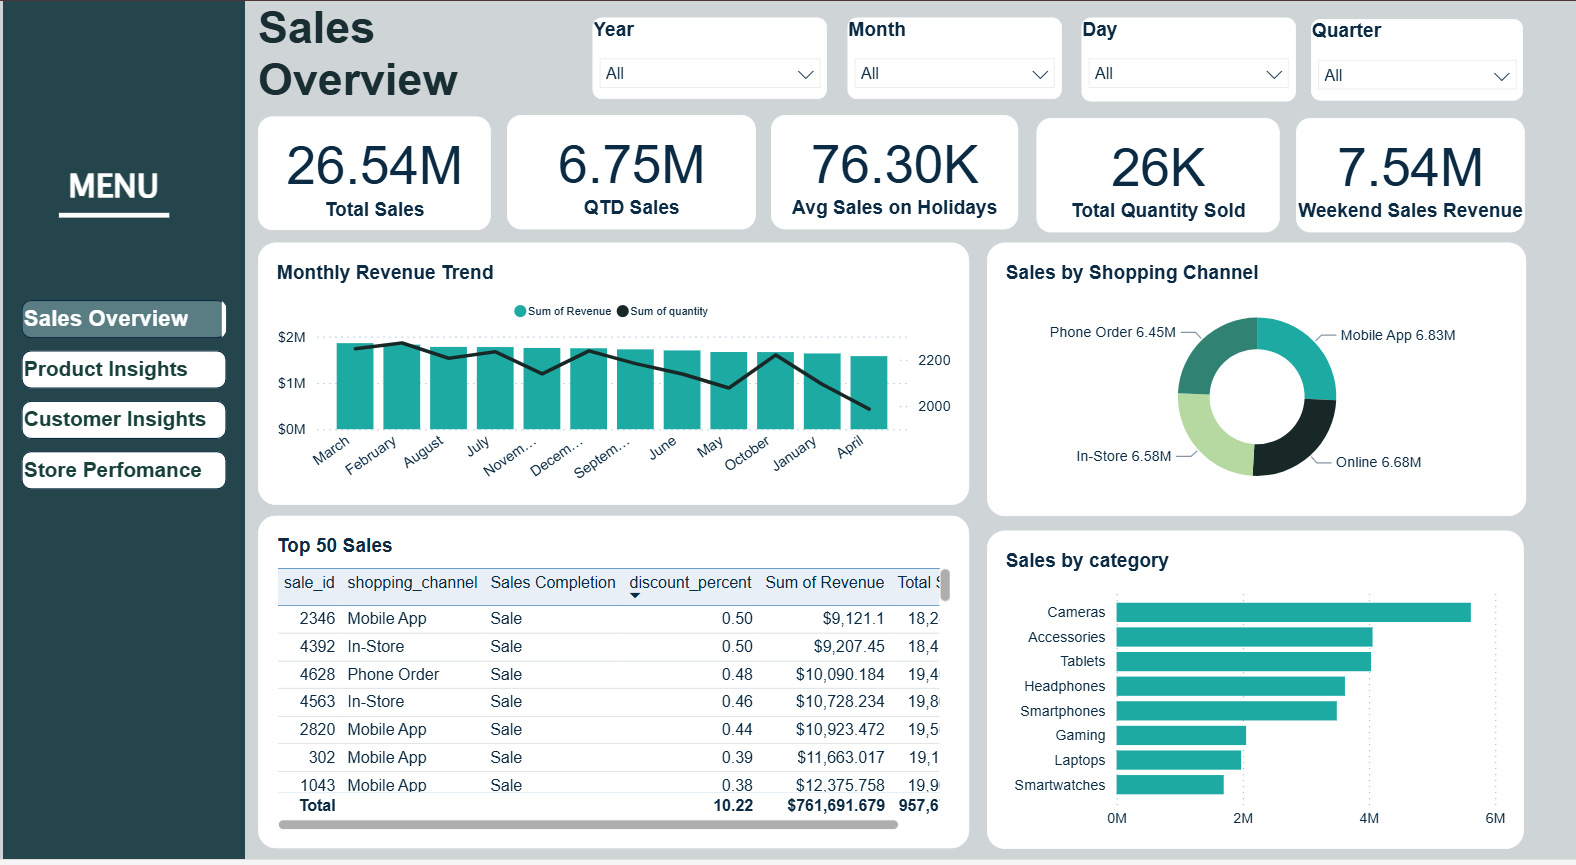

The page's visual inventory and layout, read from the dashboard file:
{"tool":"powerbi","page":{"name":"Sales Overview","canvas":[1280,720],"ordinal":0},"visuals":[{"type":"textbox","box":[0,0,201.3,720.5],"z":0,"group":"g1"},{"type":"lineClusteredColumnComboChart","title":"Monthly Revenue Trend","fields":{"Category":["Date.month"],"Y":["Sum(Sales.Revenue)"],"Y2":["Sum(Sales.quantity)"]},"box":[212.8,201.3,592.5,218.6],"z":0},{"type":"group","id":"g1","title":"Group 1","box":[0,0,201.3,720.5],"z":9,"group":"g2"},{"type":"shape","box":[31.6,139.8,122.2,76.4],"z":17,"group":"g2"},{"type":"donutChart","title":"Sales by Shopping Channel","fields":{"Category":["Sales.shopping_channel"],"Y":["Customer.Total Sales"]},"box":[820.1,200.8,449.2,228],"z":1000},{"type":"barChart","title":"Sales by category","fields":{"Category":["Product.category"],"Y":["Customer.Total Sales"]},"box":[820.1,440.7,447.5,265.4],"z":2000},{"type":"card","fields":{"Values":["Customer.Avg Sales on Holidays"]},"box":[639.7,95.3,205.9,95.3],"z":3000},{"type":"card","fields":{"Values":["Customer.QTD Sales"]},"box":[420.2,95.3,207.6,95.3],"z":4000},{"type":"card","fields":{"Values":["Customer.Total Sales"]},"box":[212.8,96.4,194.1,94.9],"z":5000},{"type":"card","fields":{"Values":["Customer.Weekend Sales Revenue"]},"box":[1077,97,190.6,95.3],"z":6000},{"type":"slicer","title":"Year","fields":{"Values":["Date.year"]},"box":[491.7,13.6,195.7,68.1],"z":7000},{"type":"slicer","title":"Month","fields":{"Values":["Date.month"]},"box":[704.4,13.6,178.6,68.1],"z":8000},{"type":"slicer","title":"Quarter","fields":{"Values":["Date.quarter"]},"box":[1090.6,15.3,176.9,68.1],"z":9000},{"type":"slicer","title":"Day","fields":{"Values":["Date.day_of_week"]},"box":[898.3,13.6,178.6,69.8],"z":10000},{"type":"card","fields":{"Values":["Customer.Total Quantity Sold"]},"box":[860.9,97,202.5,95.3],"z":11000},{"type":"pageNavigator","box":[0,233.8,201.3,189.2],"z":11000,"group":"g1"},{"type":"textbox","box":[18.7,133.9,146.7,55.3],"z":12000,"group":"g1"},{"type":"tableEx","title":"Top 50 Sales","fields":{"Values":["Sales.sale_id","Sales.shopping_channel","Sales.Sales Completion","Sum(Sales.discount_percent)","Sum(Sales.Revenue)","Customer.Total Sales"]},"box":[212.8,428.6,592.5,277.6],"z":12000},{"type":"textbox","box":[212.8,0,254.5,94.9],"z":13000},{"type":"group","id":"g2","title":"Group 2","box":[0,0,201.3,720.5],"z":14000}]}

Visuals, with their boxes in screenshot pixels (x1, y1, x2, y2), scaled from the page's 1280x720 canvas onto the 1576x865 screenshot:
textbox: Rect(0, 0, 248, 864)
"Monthly Revenue Trend" lineClusteredColumnComboChart: Rect(262, 242, 992, 504)
"Group 1" group: Rect(0, 0, 248, 864)
shape: Rect(39, 168, 189, 260)
"Sales by Shopping Channel" donutChart: Rect(1010, 241, 1563, 515)
"Sales by category" barChart: Rect(1010, 529, 1561, 848)
card - Customer.Avg Sales on Holidays: Rect(788, 114, 1041, 229)
card - Customer.QTD Sales: Rect(517, 114, 773, 229)
card - Customer.Total Sales: Rect(262, 116, 501, 230)
card - Customer.Weekend Sales Revenue: Rect(1326, 117, 1561, 231)
"Year" slicer: Rect(605, 16, 846, 98)
"Month" slicer: Rect(867, 16, 1087, 98)
"Quarter" slicer: Rect(1343, 18, 1561, 100)
"Day" slicer: Rect(1106, 16, 1326, 100)
card - Customer.Total Quantity Sold: Rect(1060, 117, 1309, 231)
pageNavigator: Rect(0, 281, 248, 508)
textbox: Rect(23, 161, 204, 227)
"Top 50 Sales" tableEx: Rect(262, 515, 992, 848)
textbox: Rect(262, 0, 575, 114)
"Group 2" group: Rect(0, 0, 248, 864)
